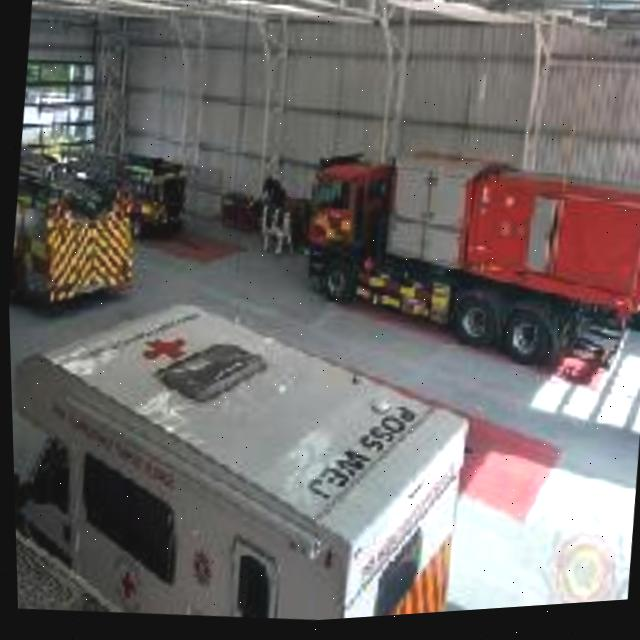emergency: (7, 261, 508, 640), (288, 148, 640, 402)
